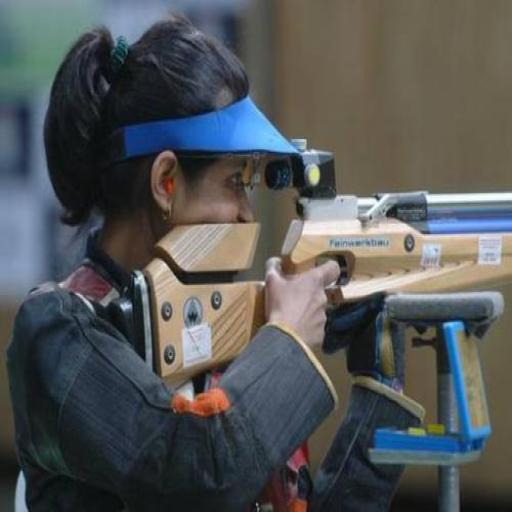shooting: (34, 30, 512, 471)
